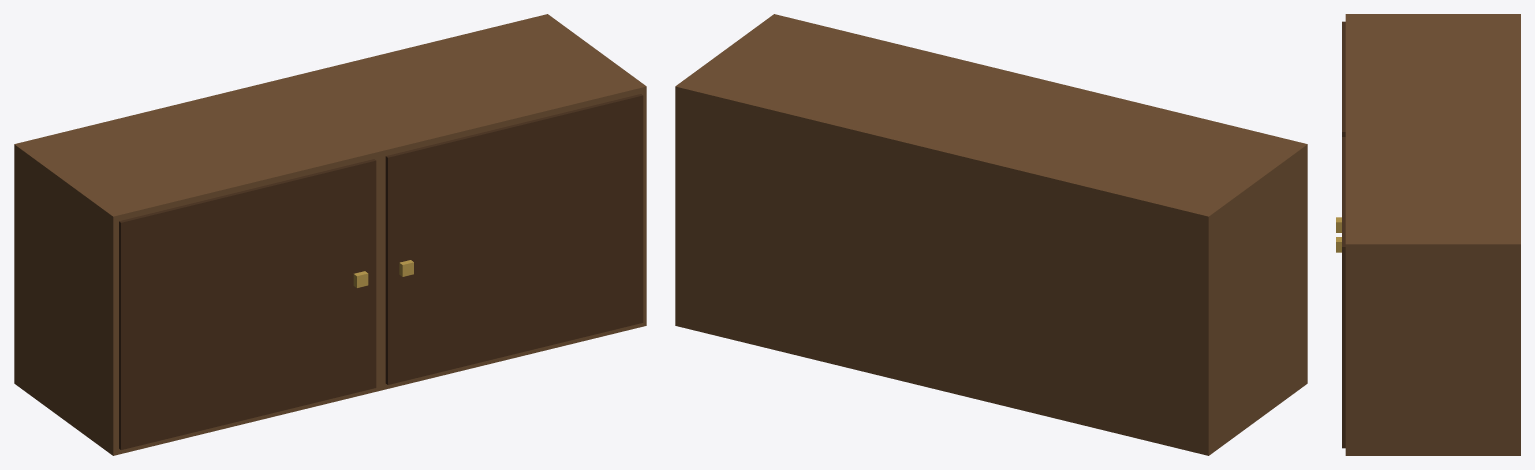
The model's file is tv stand.glb.
The picture shows the model from 3 angles, left to right: view 1: azimuth 30°, elevation 25°; view 2: azimuth 150°, elevation 25°; view 3: azimuth 270°, elevation 25°; orthographic projection. The views are drawn at different scales.
Parts seen in each view (by area): view 1: tv stand; view 2: tv stand; view 3: tv stand.
Boxes of the visible parts, x1,y1,x2,y2 form: tv stand: (14,14,646,455); tv stand: (675,14,1307,455); tv stand: (1336,14,1520,455).
Bounding box in the file's own units: 1.4 × 0.6 × 0.475.
